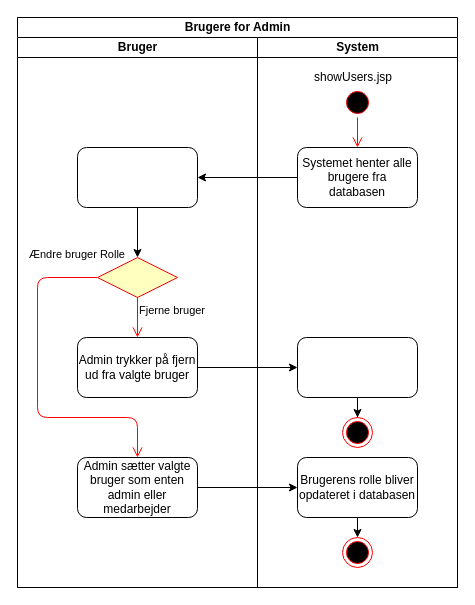
Some shapes in this 475 by 605 pixel diagram are drawn without their labels. Each missing label, with the centre of its shape:
Admin kan se alle brugere, deres email og rolle: [137,177]
Brugeren bliver fjernet fra databasen: [357,367]
Hvad vil admin?: [137,277]
